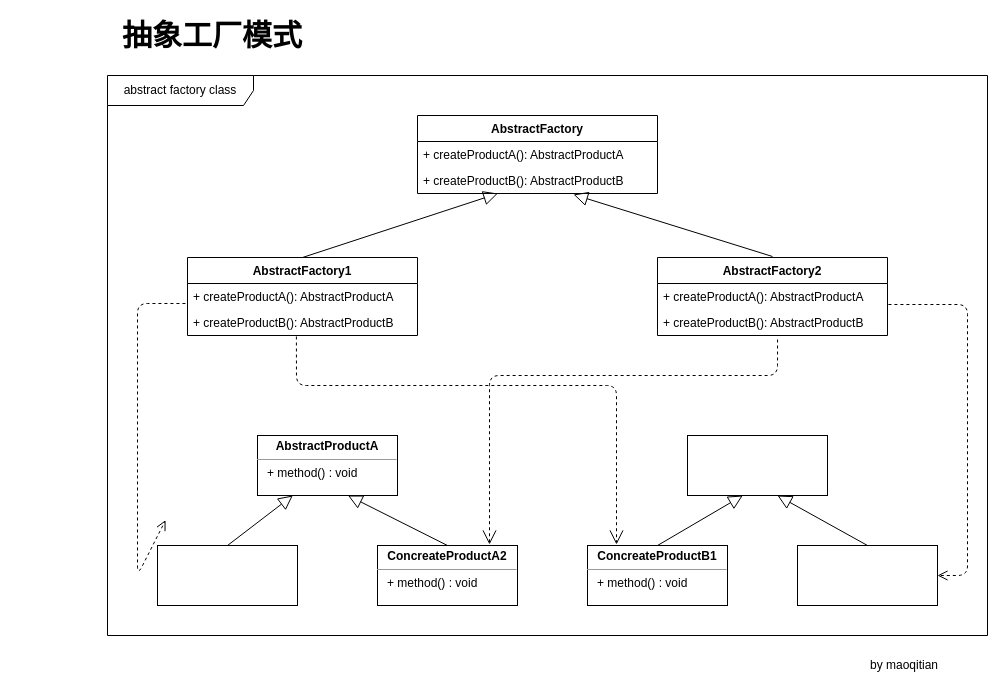
Some shapes in this 1005 by 692 pixel diagram are drawn without their labels. The centre of each missing label's shape, as x and y in pixels:
AbstractProductB + method() : void: the point at 757,465
ConcreateProductA1 + method() : void: the point at 227,575
ConcreateProductB2 + method() : void: the point at 867,575
